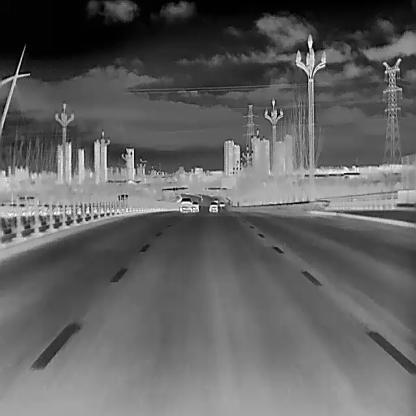car: (179, 197, 191, 212), (209, 201, 217, 212), (191, 200, 199, 211), (218, 199, 224, 206)
